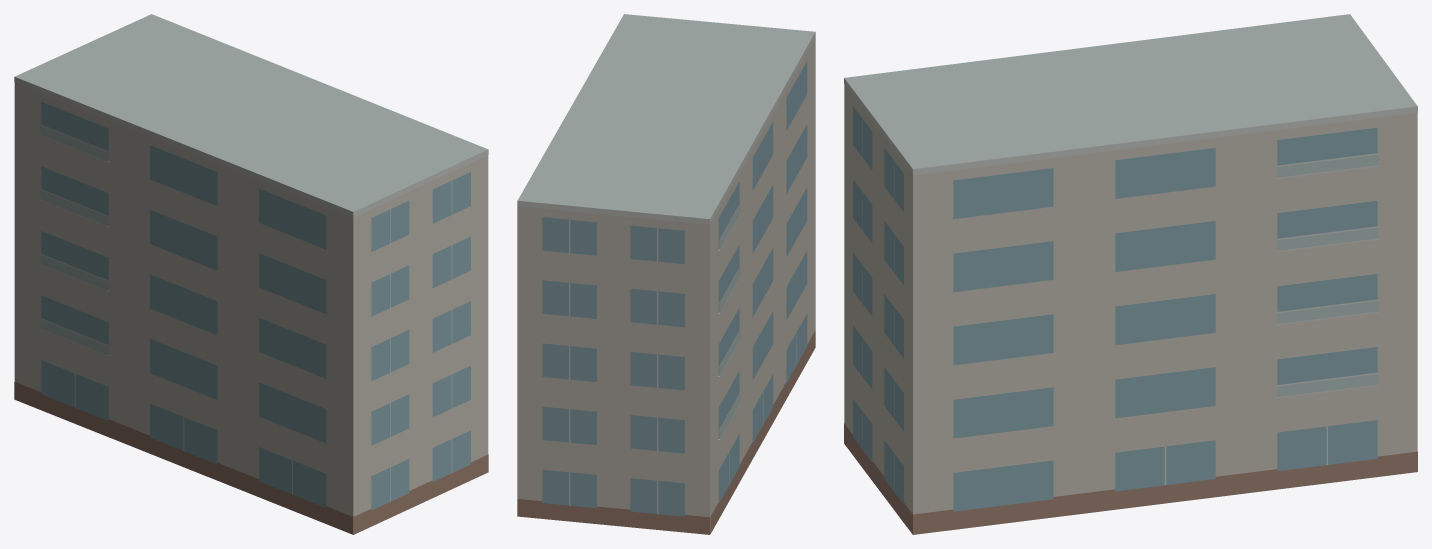
File: survey-upis-32535663.glb
The picture shows the model from 3 angles, left to right: view 1: azimuth 30°, elevation 25°; view 2: azimuth 150°, elevation 25°; view 3: azimuth 270°, elevation 25°; orthographic projection. The views are drawn at different scales.
Parts seen in each view (by area): view 1: survey-upis-32535663.tmp; view 2: survey-upis-32535663.tmp; view 3: survey-upis-32535663.tmp.
Part boxes in pixels (left/top/right/bottom): survey-upis-32535663.tmp: left=14, top=14, right=488, bottom=534; survey-upis-32535663.tmp: left=517, top=14, right=815, bottom=534; survey-upis-32535663.tmp: left=844, top=14, right=1417, bottom=534.
Size of the model in its own units: 13.03 by 14.3 by 20.35.
